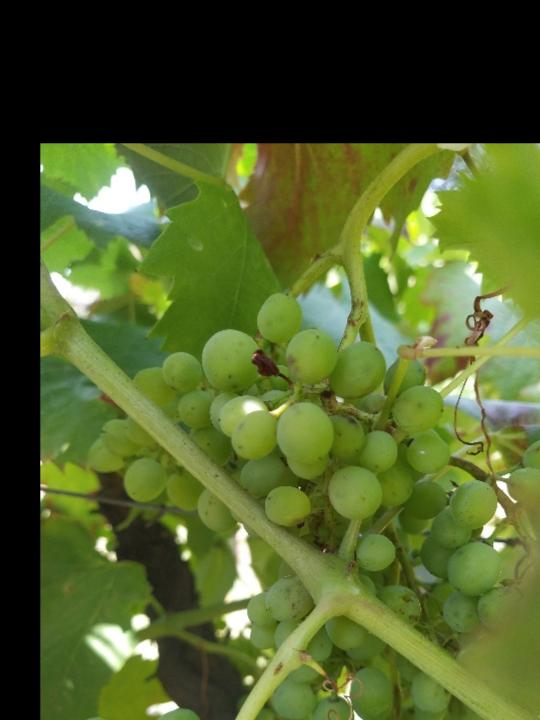grape: (88, 287, 540, 720)
